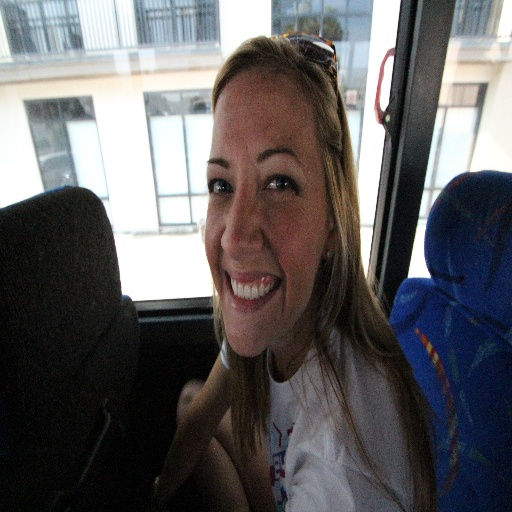hand: (162, 338, 245, 495)
